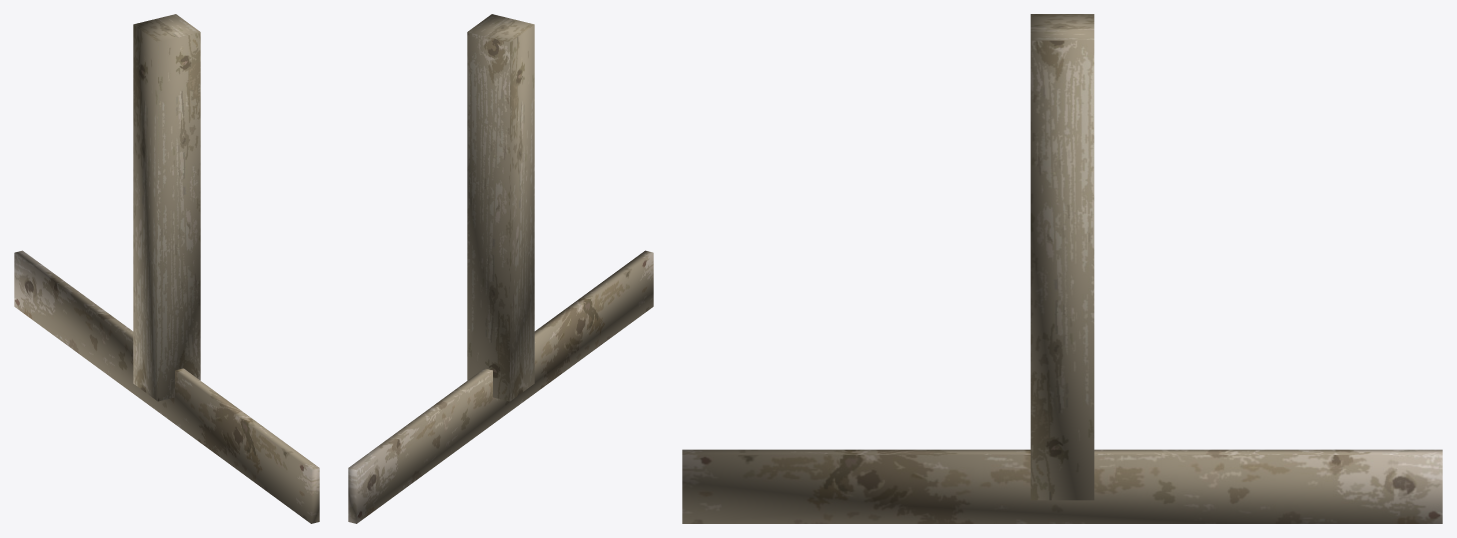
The model's file is phx_woodfence1.fbx.
3 views of the same model, side by side, from view 1: azimuth 30°, elevation 25°; view 2: azimuth 150°, elevation 25°; view 3: azimuth 270°, elevation 25° (orthographic). The views are drawn at different scales.
Visible parts, largest first — view 1: Fencepole 4, Fenceboard 6; view 2: Fencepole 4, Fenceboard 6; view 3: Fenceboard 6, Fencepole 4.
Boxes of the visible parts, x1,y1,x2,y2 form: Fencepole 4: [133, 14, 200, 401]; Fenceboard 6: [14, 250, 319, 523]; Fencepole 4: [467, 14, 534, 401]; Fenceboard 6: [348, 250, 653, 523]; Fenceboard 6: [682, 449, 1442, 523]; Fencepole 4: [1030, 14, 1094, 500].
Size of the model in its own units: 25 by 215 by 300.
